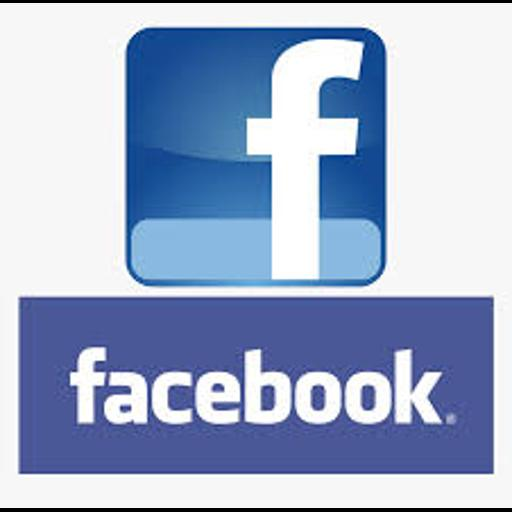Facebook: (0, 3, 512, 508)
